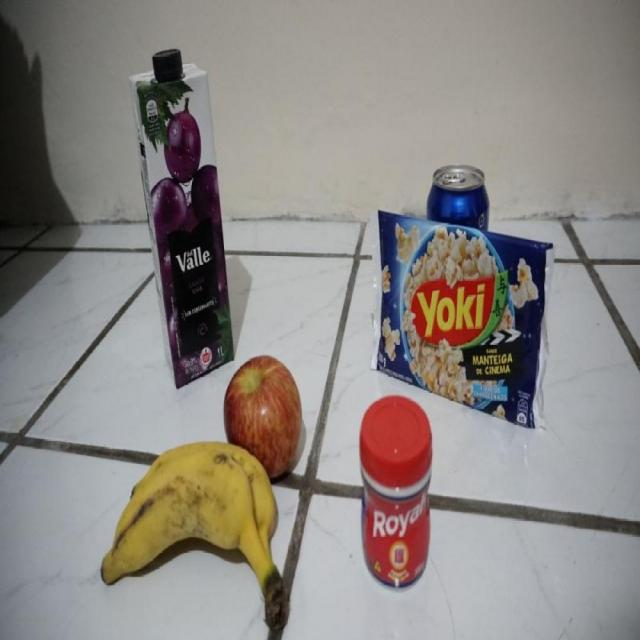Apple: (223, 356, 303, 480)
Banana: (99, 438, 286, 632)
Popcorn: (371, 206, 554, 437)
SodaCan: (425, 163, 492, 229)
Yeast: (357, 393, 435, 591)
